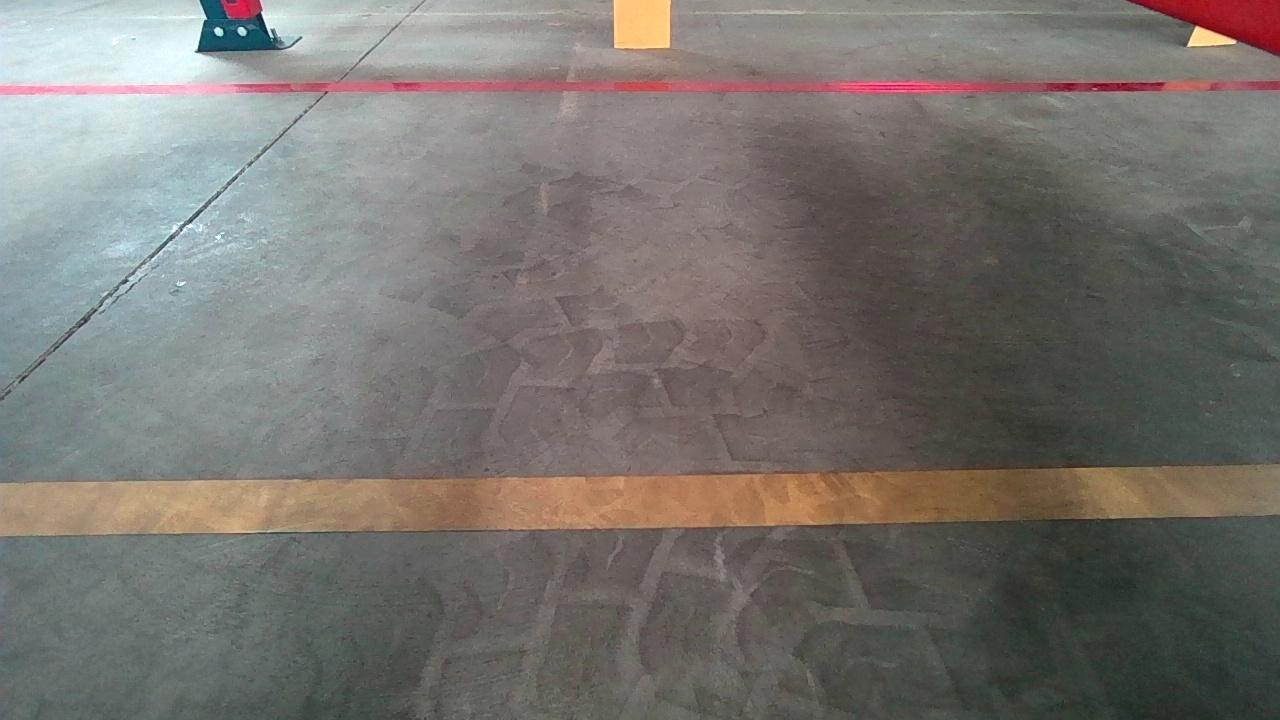red_line: (0, 79, 1280, 93)
